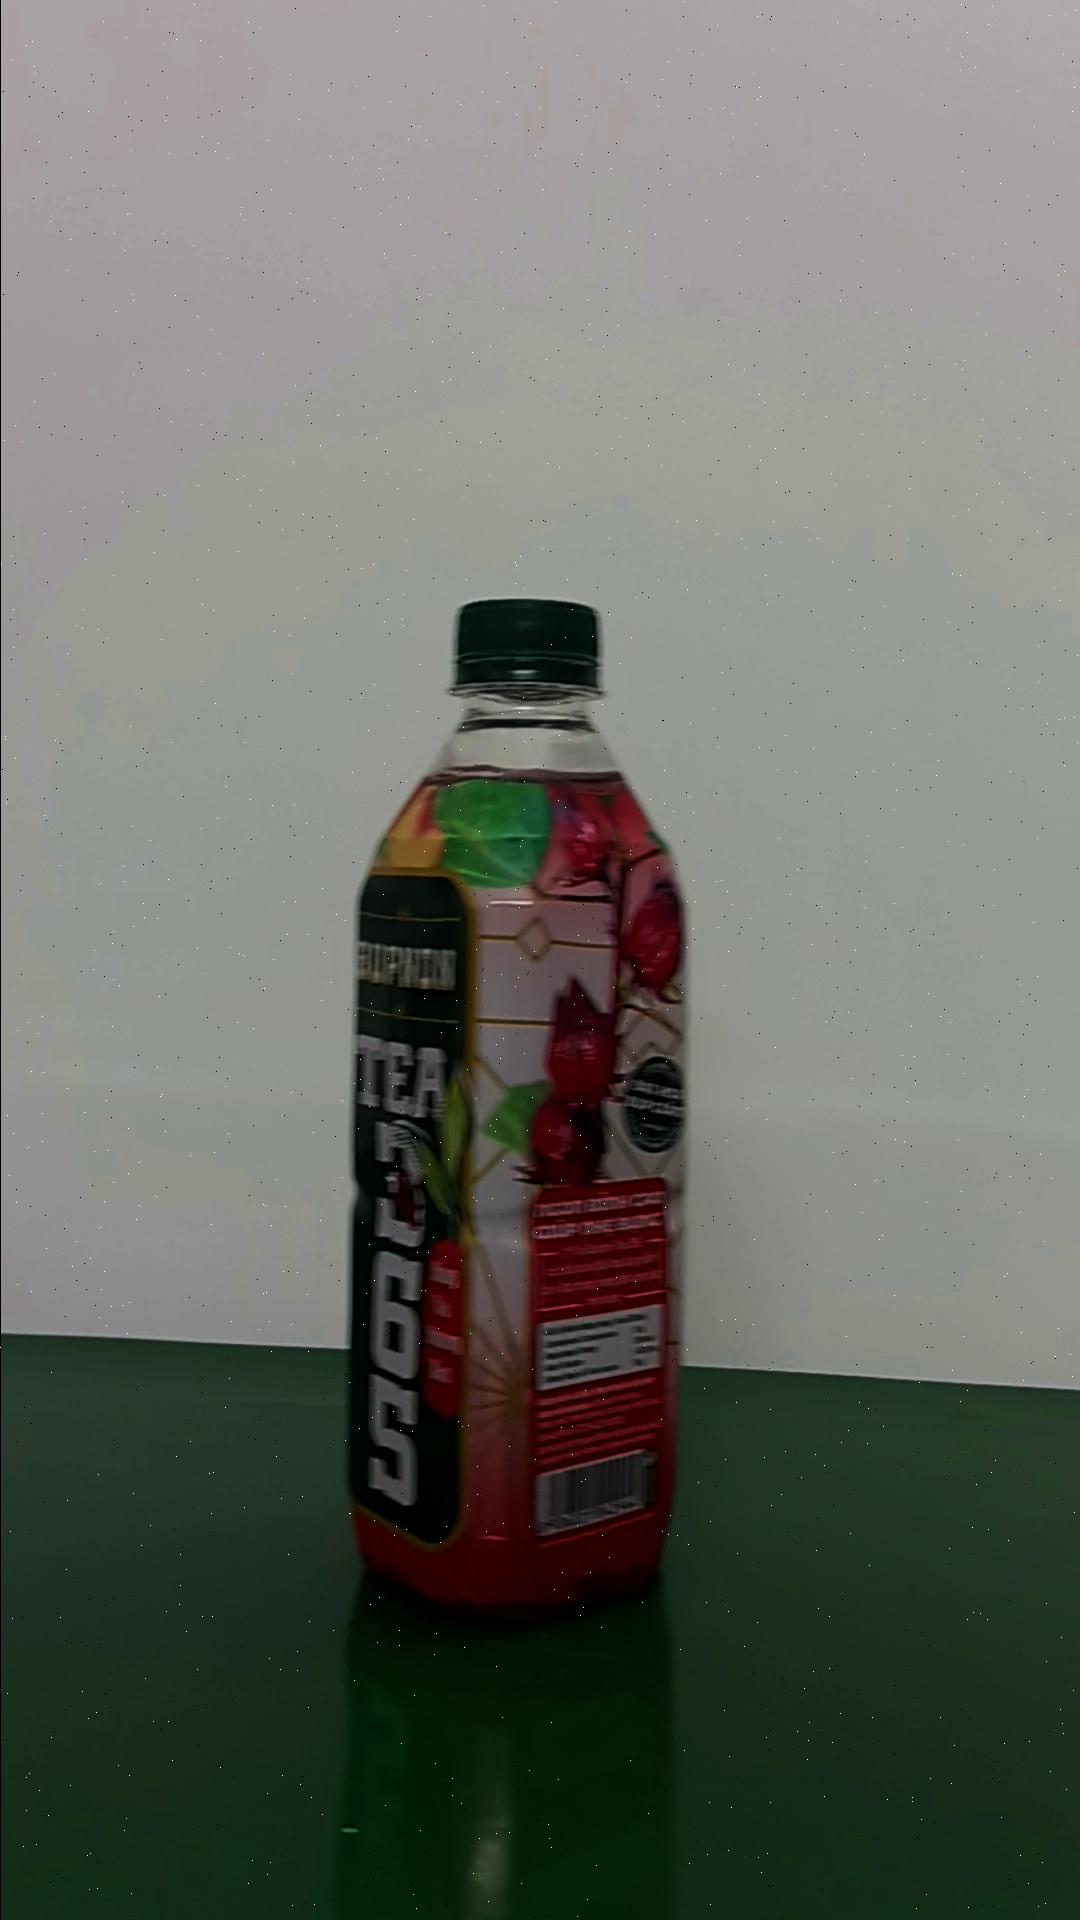loi rach va lap chai: (345, 592, 684, 1631)
